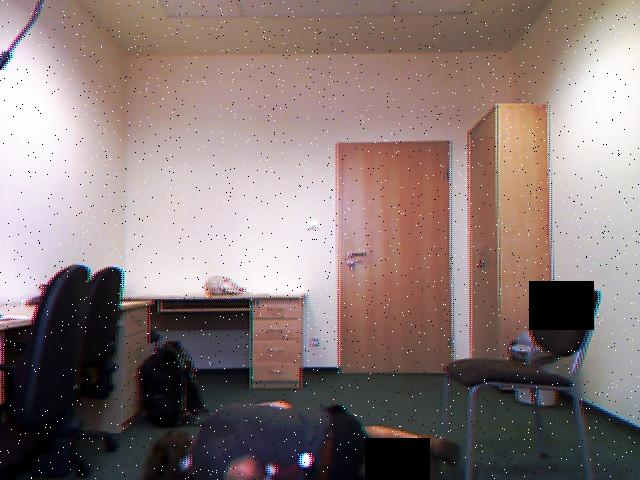fall: (143, 398, 469, 480)
